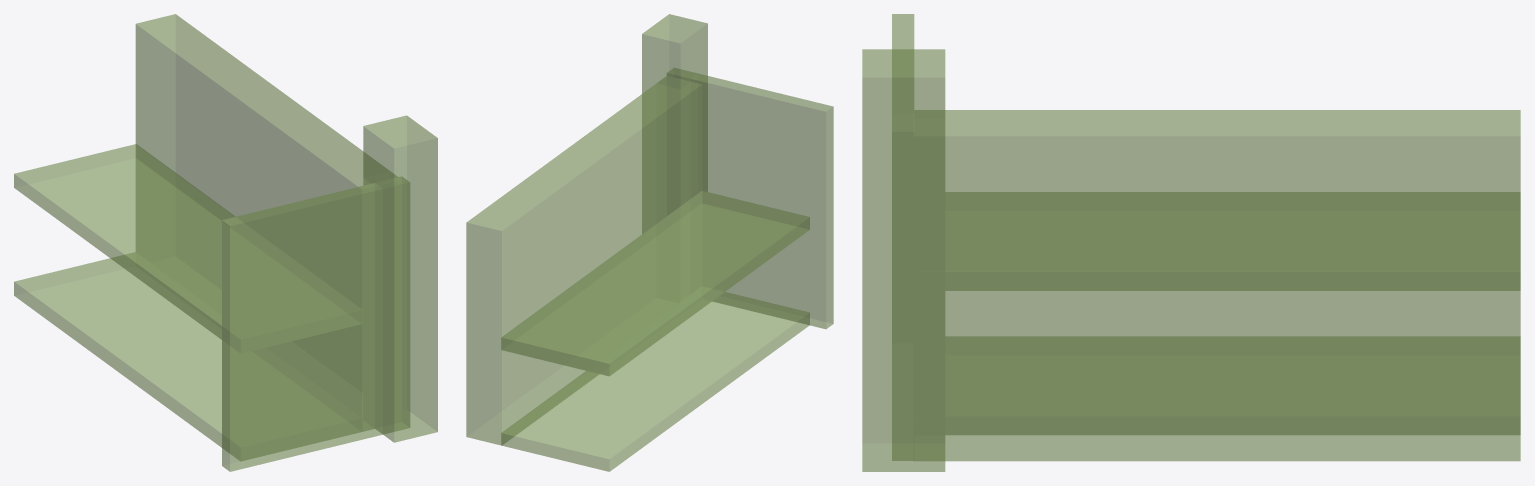
The model's file is bar_foot_1_2_COL.fbx.
3 views of the same model, side by side, from view 1: azimuth 30°, elevation 25°; view 2: azimuth 150°, elevation 25°; view 3: azimuth 270°, elevation 25° (orthographic). The views are drawn at different scales.
Visible parts, largest first — view 1: bar_foot_1_2_COL; view 2: bar_foot_1_2_COL; view 3: bar_foot_1_2_COL.
Part boxes in pixels (x1,y1,x2,y2): bar_foot_1_2_COL: (14, 14, 437, 471); bar_foot_1_2_COL: (466, 14, 833, 471); bar_foot_1_2_COL: (862, 14, 1520, 471).
Bounding box in the file's own units: 98.65 × 141 × 213.
